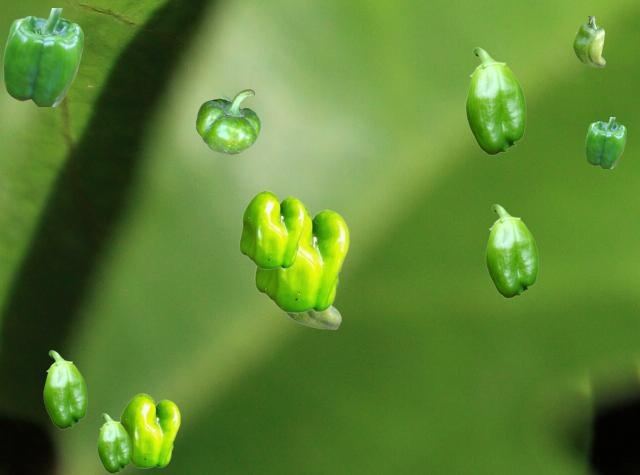bell_pepper: (254, 204, 348, 312), (3, 8, 82, 105), (465, 47, 525, 154), (239, 190, 305, 268), (485, 204, 537, 297), (119, 393, 179, 467), (196, 89, 259, 153), (43, 350, 86, 428), (585, 117, 625, 167), (97, 413, 130, 472), (573, 16, 604, 66), (285, 306, 340, 328)
